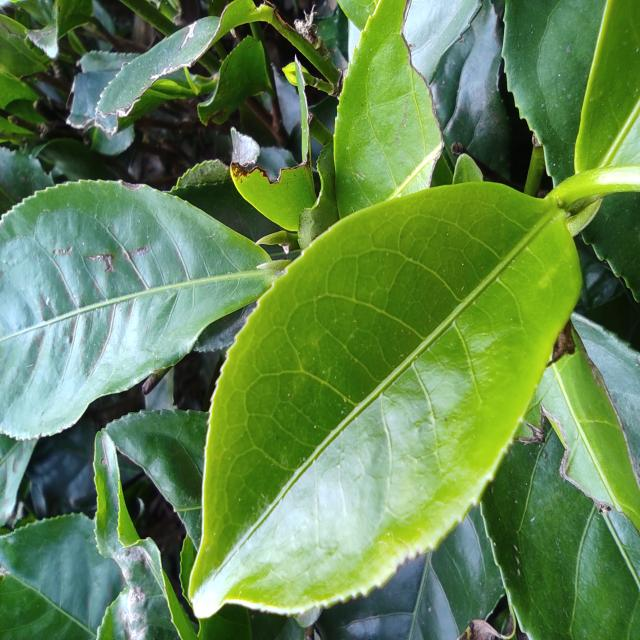Category C(4-7 days): (161, 143, 601, 640)
